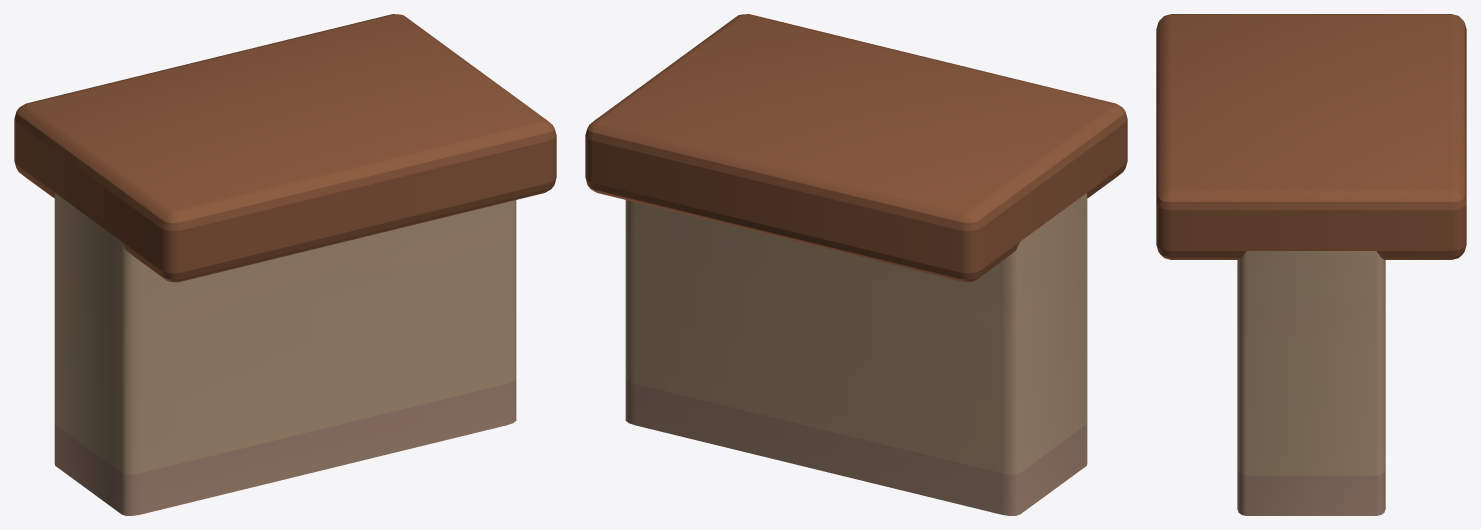
File: StationTable_1_A.glb
The picture shows the model from 3 angles, left to right: view 1: azimuth 30°, elevation 25°; view 2: azimuth 150°, elevation 25°; view 3: azimuth 270°, elevation 25°; orthographic projection. The views are drawn at different scales.
Visible parts, largest first — view 1: StationTable_1_A; view 2: StationTable_1_A; view 3: StationTable_1_A.
Boxes of the visible parts, bbox=[...] form: StationTable_1_A: bbox=[14, 14, 556, 515]; StationTable_1_A: bbox=[585, 14, 1127, 515]; StationTable_1_A: bbox=[1156, 14, 1466, 515].
Size of the model in its own units: 1.25 by 1 by 0.8781.
Materials: 1 (1 with a texture image).
